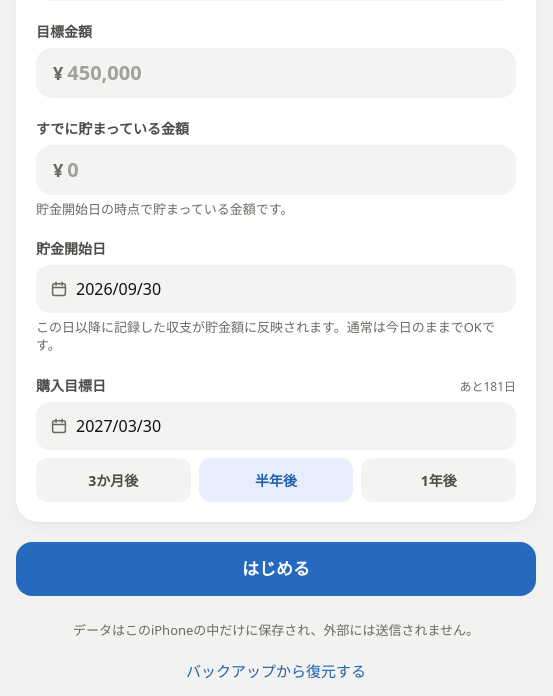
Test: SetupScreen › offers target-date presets
(page scrolled)
Click the button "1年後". click: (439, 480)
box: [361,458,516,502]
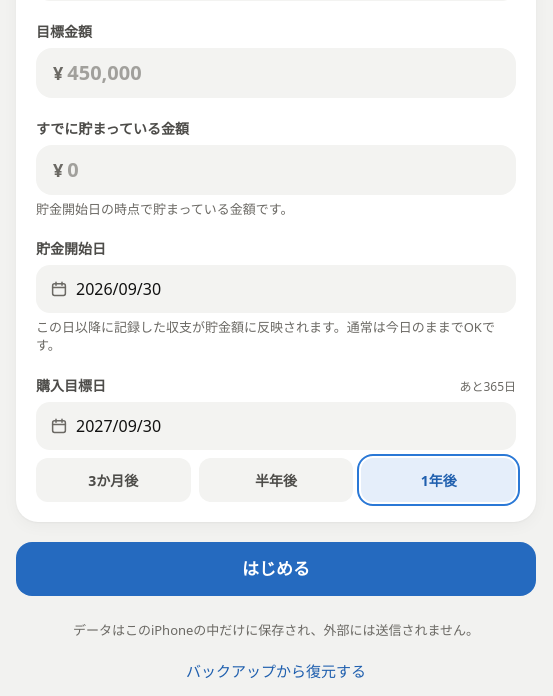
Result: the text "2027/09/30" is shown at [76,414,161,438]
